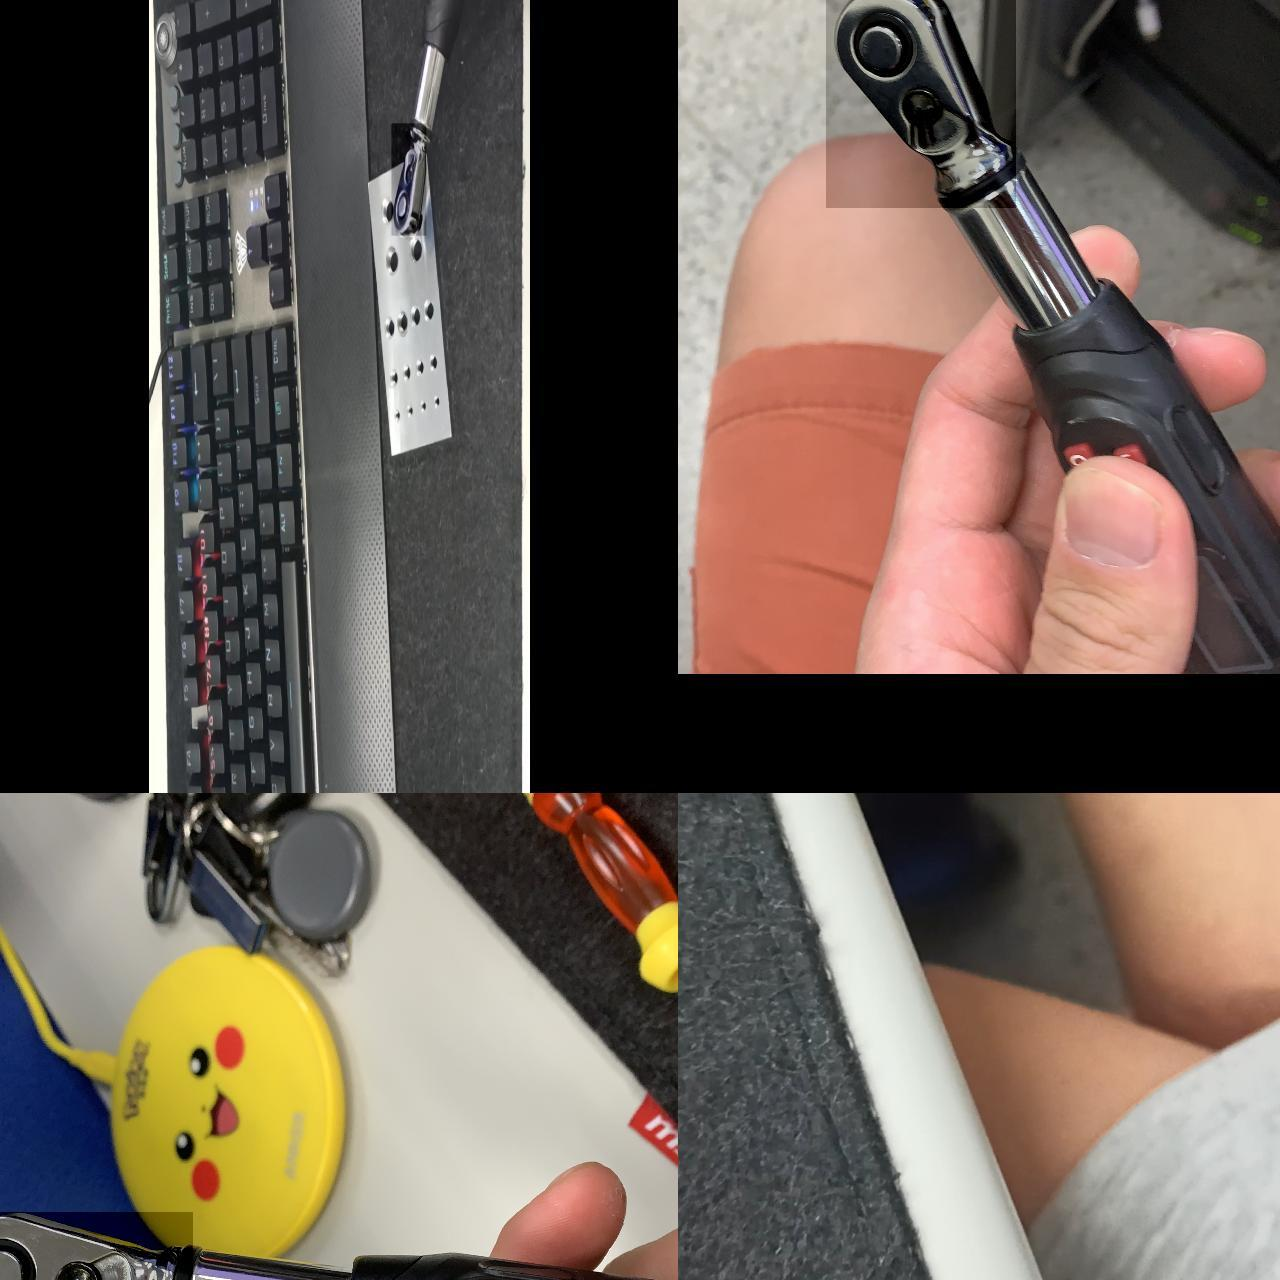Tool: (825, 0, 1015, 207), (0, 1212, 192, 1280), (392, 123, 425, 236)
